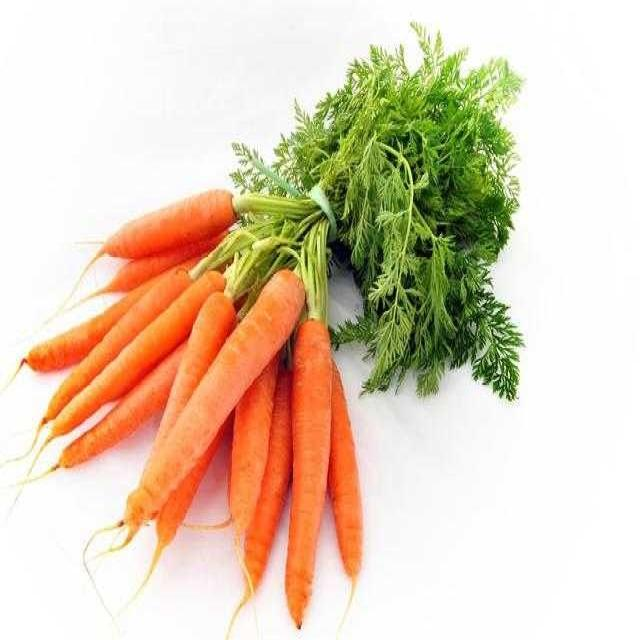carrots: (6, 159, 382, 602)
